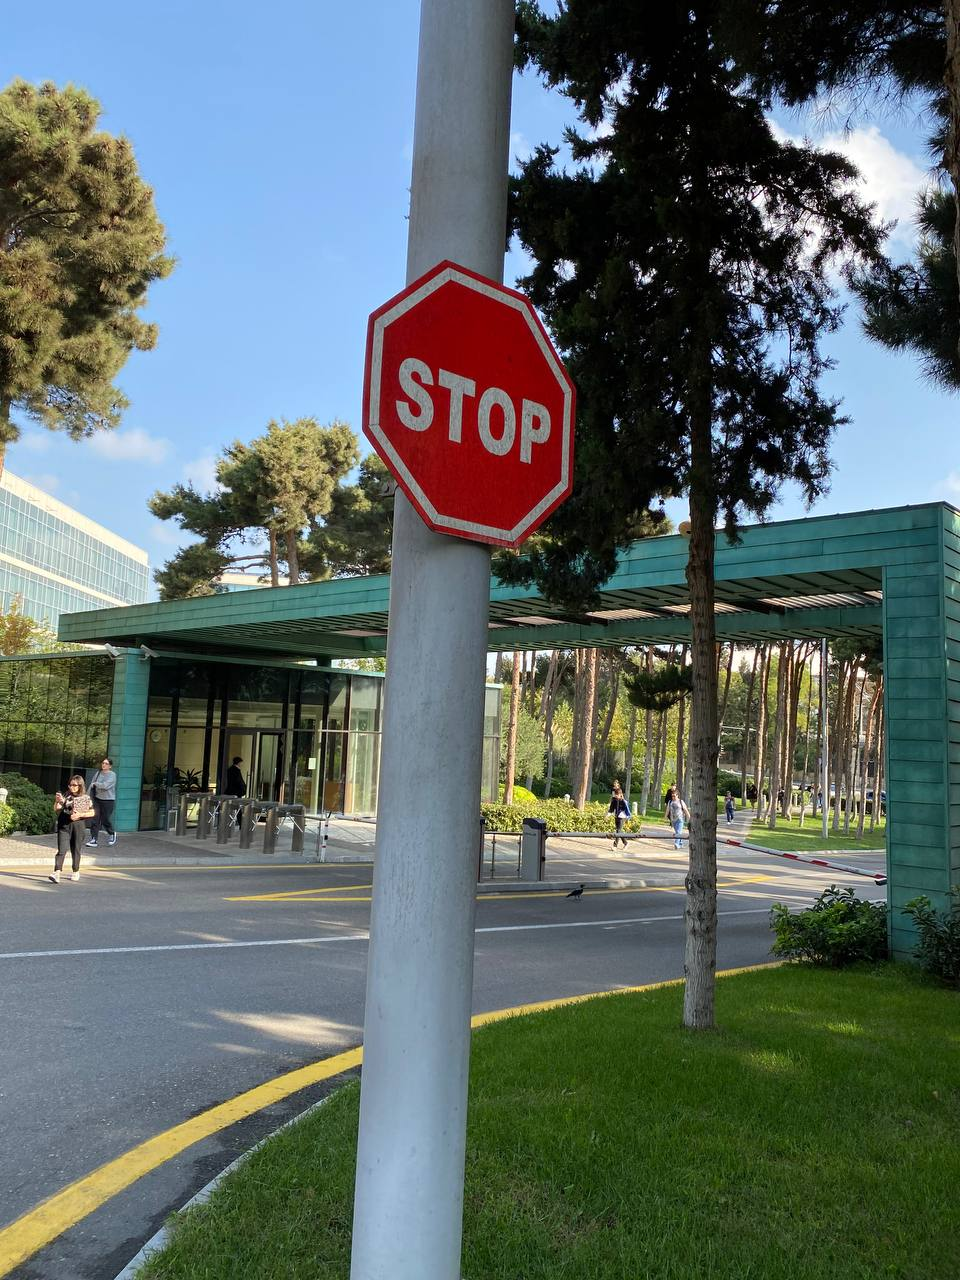STOP: (361, 260, 575, 549)
